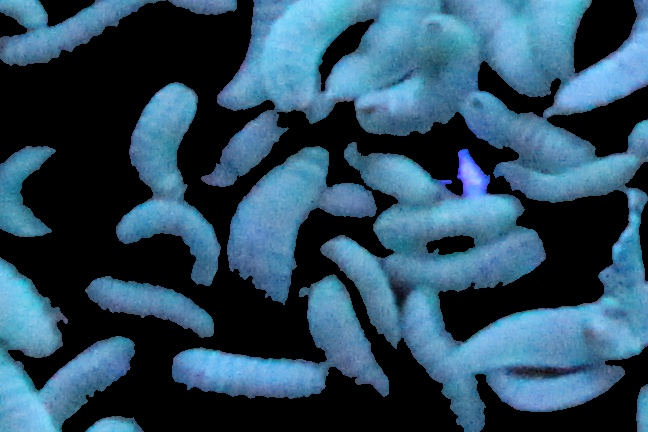larvae: (226, 148, 329, 306), (358, 17, 478, 133), (396, 287, 487, 430), (455, 303, 646, 370), (264, 1, 378, 108), (328, 1, 440, 98), (553, 1, 648, 113), (1, 1, 152, 68), (377, 229, 542, 290), (301, 280, 390, 393), (466, 95, 594, 168), (117, 201, 221, 286), (86, 270, 215, 336), (126, 83, 200, 198), (218, 2, 294, 112), (34, 335, 135, 417), (172, 349, 328, 400), (326, 241, 400, 345), (1, 252, 68, 361), (500, 146, 637, 199), (376, 196, 519, 243), (488, 365, 625, 411), (523, 1, 596, 77), (1, 143, 56, 238), (1, 340, 60, 428), (352, 154, 451, 199), (490, 20, 547, 97), (1, 1, 51, 25)
